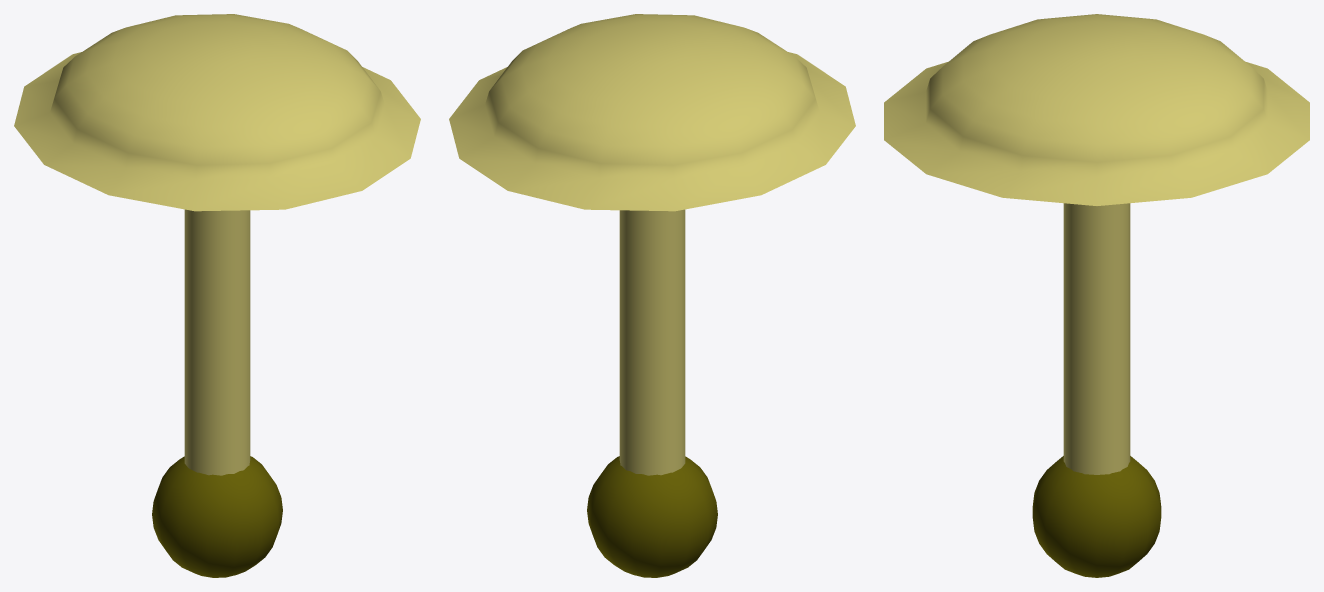
The model's file is mushroom1.fbx.
3 views of the same model, side by side, from view 1: azimuth 30°, elevation 25°; view 2: azimuth 150°, elevation 25°; view 3: azimuth 270°, elevation 25° (orthographic).
Parts seen in each view (by area): view 1: MushroomTip, MushroomStalk, MushroomStalkBase; view 2: MushroomTip, MushroomStalk, MushroomStalkBase; view 3: MushroomTip, MushroomStalk, MushroomStalkBase.
Part boxes in pixels (x1,y1,x2,y2): MushroomTip: (14, 14, 420, 211); MushroomStalk: (184, 209, 250, 475); MushroomStalkBase: (152, 456, 282, 577); MushroomTip: (449, 14, 855, 211); MushroomStalk: (619, 209, 685, 475); MushroomStalkBase: (587, 456, 717, 577); MushroomTip: (884, 14, 1309, 205); MushroomStalk: (1063, 203, 1130, 474); MushroomStalkBase: (1032, 456, 1161, 577).
Size of the model in its own units: 2.04 by 2.96 by 2.17.
